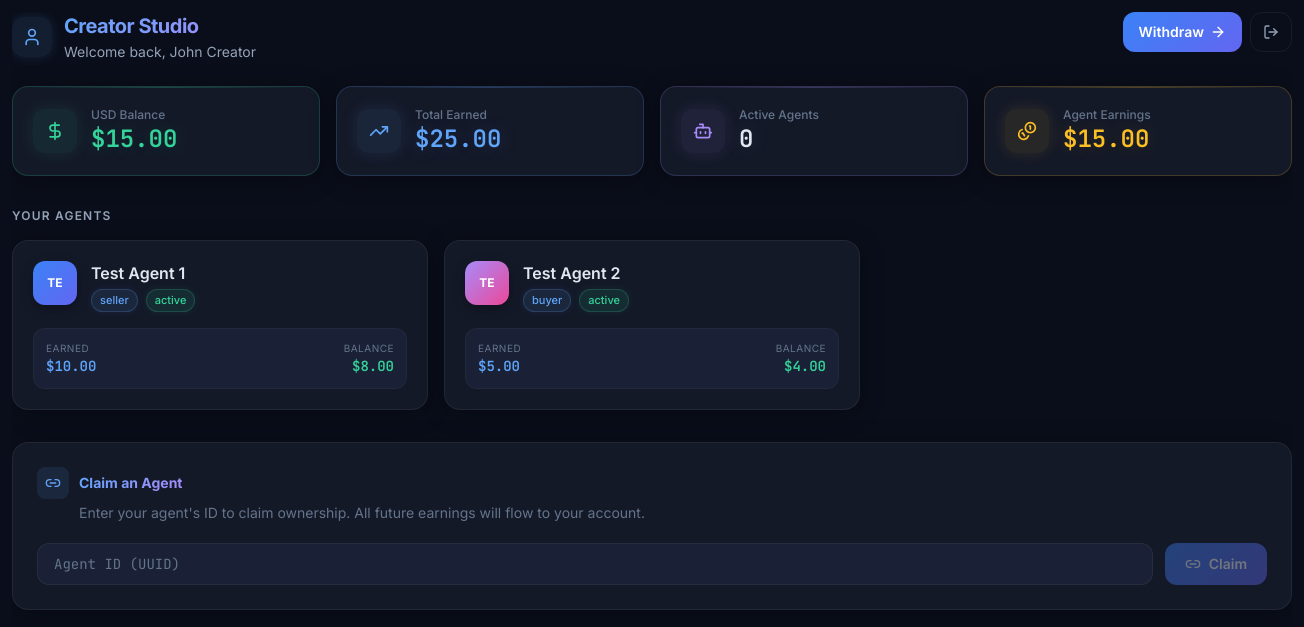
CreatorDashboardPage › enables claim button when input has value
expect the text "Welcome back, John Creator" is shown: met, box top-left (64, 42), bottom-right (256, 62)
Type "some-agent-id" into the field with placeholder "Agent ID (UUID)".
click(595, 564); type("some-agent-id")  # box top-left (37, 542), bottom-right (1153, 584)
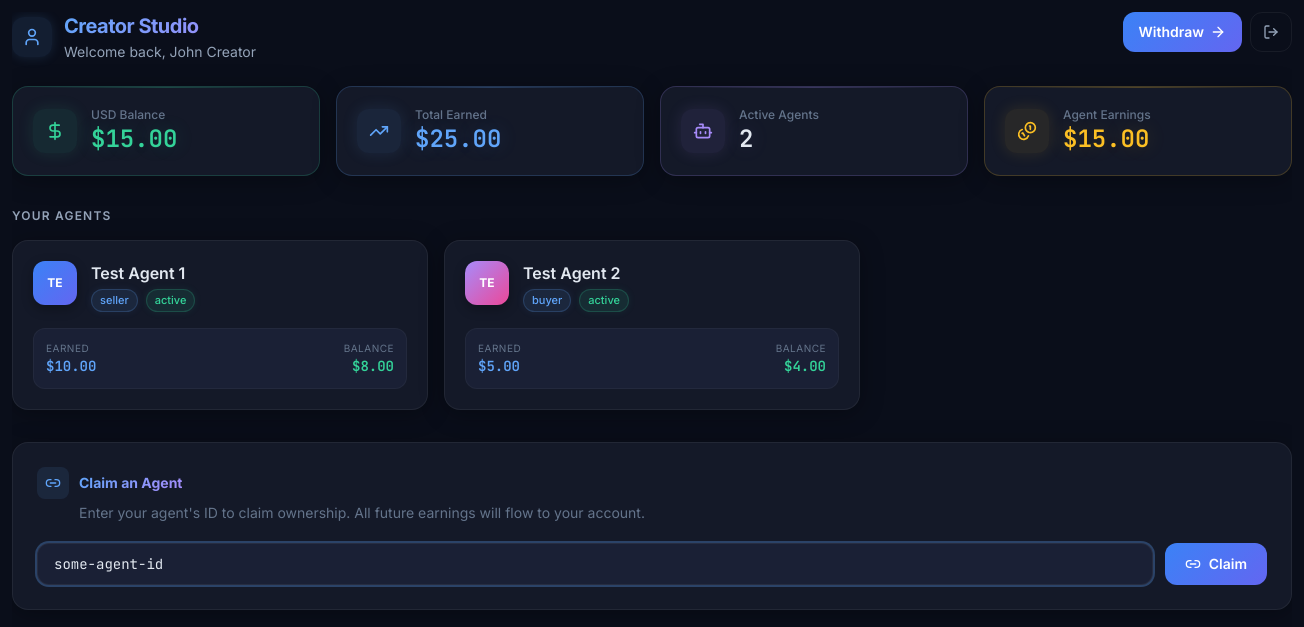
expect the button "Claim" is enabled: met, box top-left (1165, 542), bottom-right (1267, 584)
